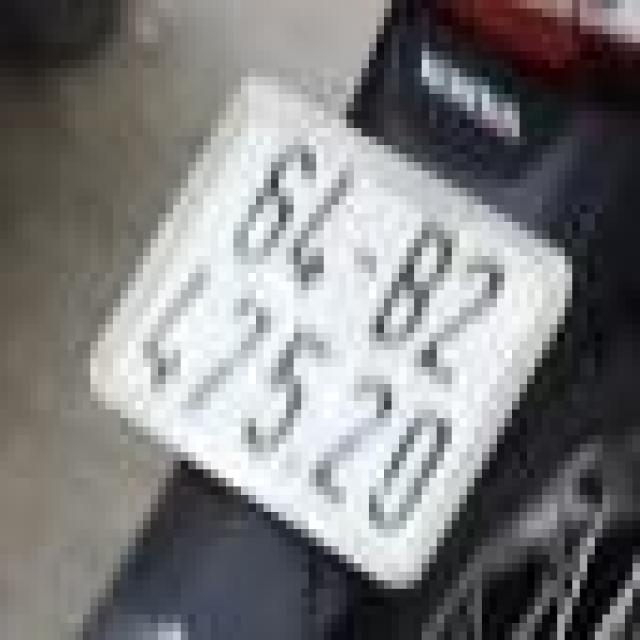0: (344, 394, 469, 566)
2: (292, 344, 419, 525), (407, 231, 534, 402)
4: (273, 157, 393, 306), (127, 252, 234, 404)
5: (227, 312, 354, 478)
6: (216, 122, 331, 280)
7: (174, 275, 279, 432)
B: (356, 194, 461, 360)
